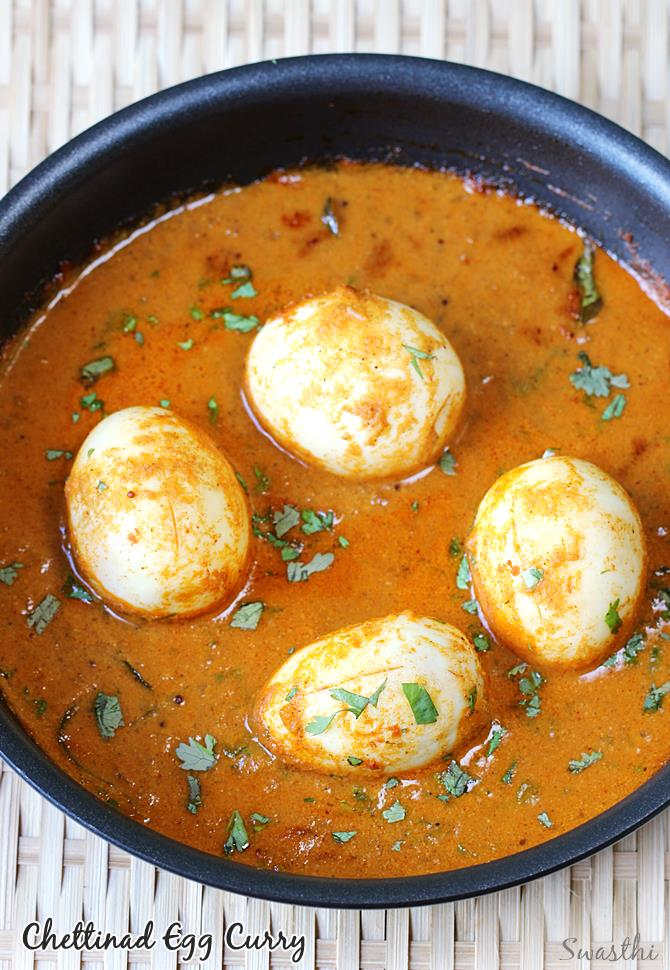curry: (31, 207, 630, 868)
egg: (49, 401, 261, 626), (439, 449, 651, 674), (240, 285, 479, 484), (254, 589, 493, 788)
